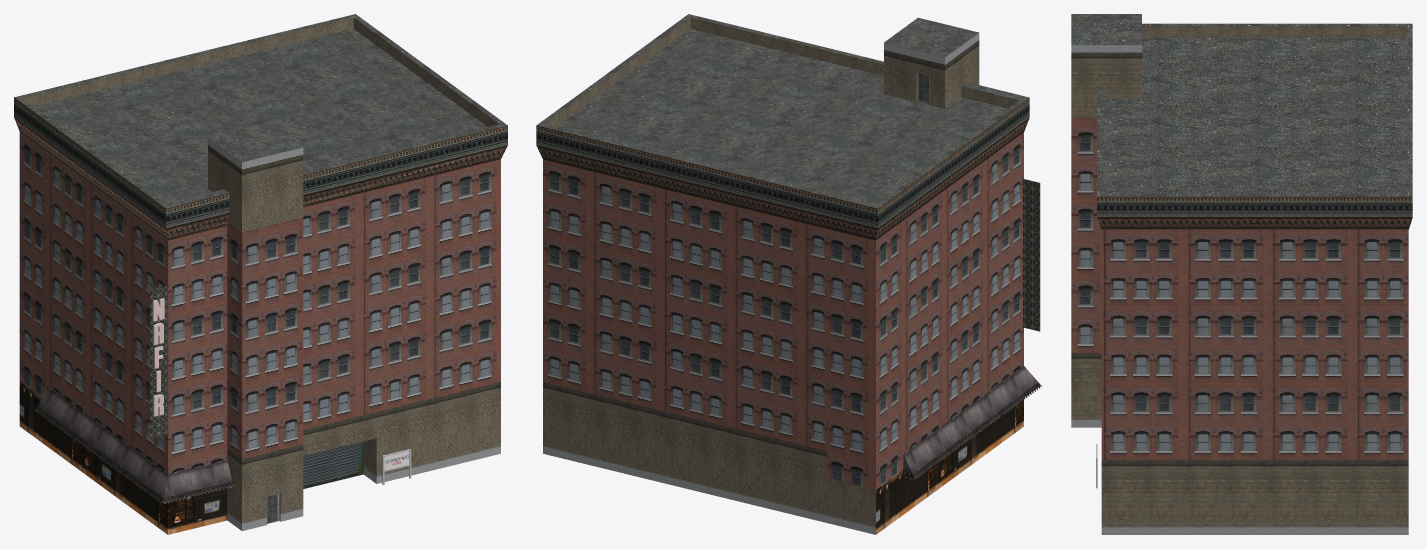
File: apartment.fbx
The picture shows the model from 3 angles, left to right: view 1: azimuth 30°, elevation 25°; view 2: azimuth 150°, elevation 25°; view 3: azimuth 270°, elevation 25°; orthographic projection. The views are drawn at different scales.
Visible parts, largest first — view 1: outerior1, shopb1, name1, N_A_F_I_R1, SALEPOST1; view 2: outerior1, shopb1, name1; view 3: outerior1.
Boxes of the visible parts, left/top/right/bottom form: outerior1: left=14, top=14, right=507, bottom=534; shopb1: left=35, top=386, right=233, bottom=503; name1: left=150, top=286, right=167, bottom=438; N_A_F_I_R1: left=152, top=298, right=164, bottom=416; SALEPOST1: left=382, top=449, right=411, bottom=484; outerior1: left=536, top=14, right=1029, bottom=534; shopb1: left=903, top=366, right=1041, bottom=479; name1: left=1023, top=179, right=1040, bottom=331; outerior1: left=1071, top=14, right=1412, bottom=534.
Size of the model in its own units: 935 by 929 by 752.
